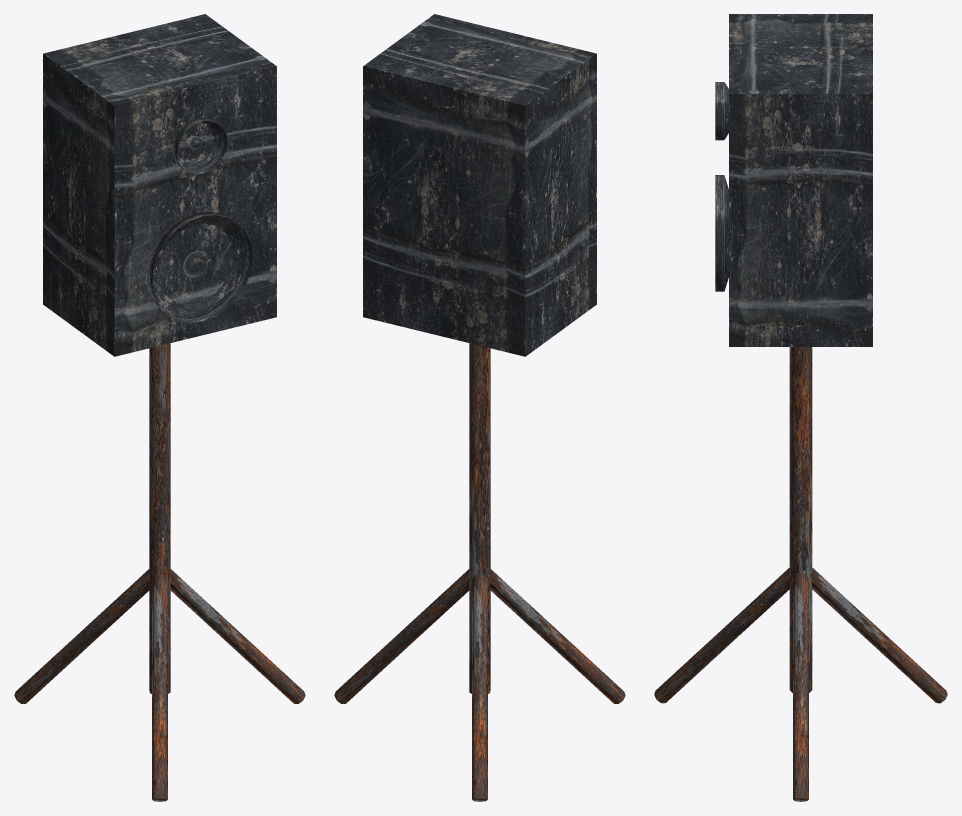
File: prop_speaker.glb
3 renders of one model, left to right at view 1: azimuth 30°, elevation 25°; view 2: azimuth 150°, elevation 25°; view 3: azimuth 270°, elevation 25°, orthographic.
Visible parts, largest first — view 1: prop_speaker; view 2: prop_speaker; view 3: prop_speaker.
Part boxes in pixels (left/top/right/bottom): prop_speaker: left=14, top=14, right=305, bottom=801; prop_speaker: left=334, top=14, right=625, bottom=801; prop_speaker: left=654, top=14, right=947, bottom=801.
Size of the model in its own units: 0.5834 by 1.67 by 0.6526.
Materials: 2 (2 with a texture image).
